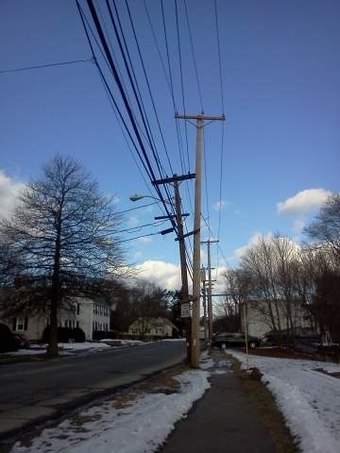utility_pole: (168, 100, 230, 155), (145, 166, 196, 228)
